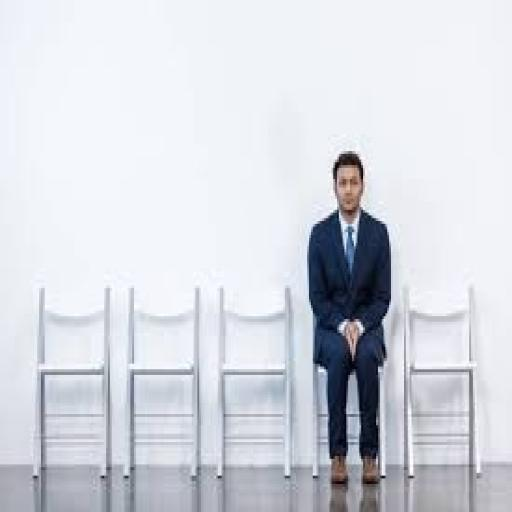sitting: (305, 148, 393, 487)
